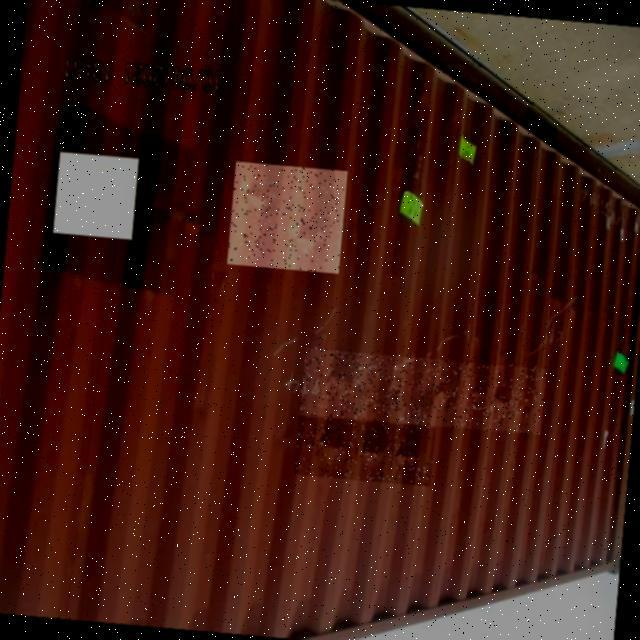Dent: (300, 345, 546, 434), (294, 416, 436, 487)
Minor-Dent: (227, 161, 348, 273)
